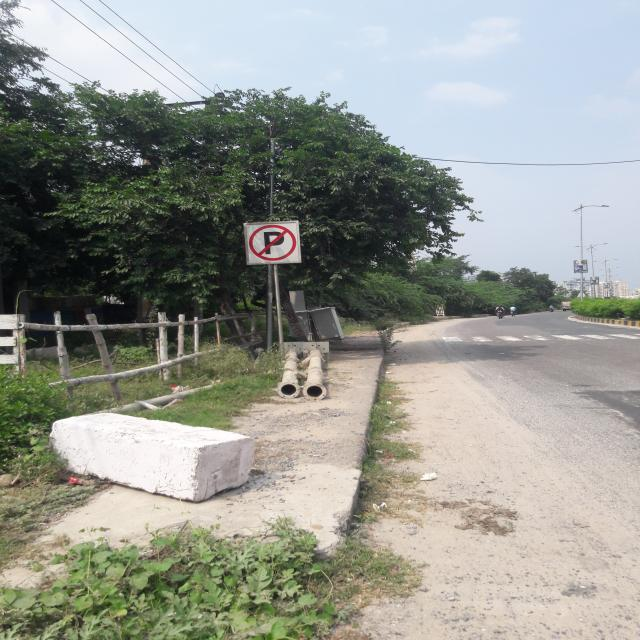no parking: (243, 222, 301, 264)
